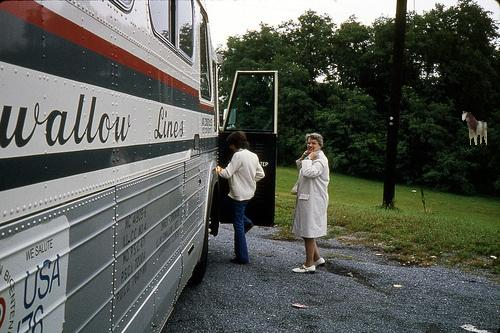tampered: (463, 112, 487, 145)
